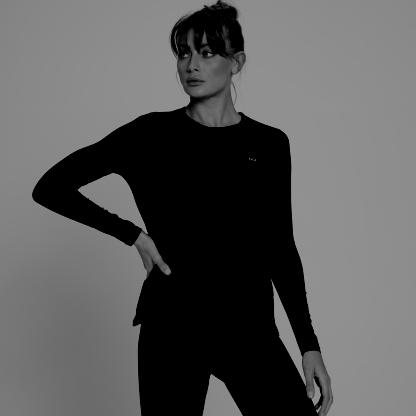dress: (29, 98, 326, 360)
